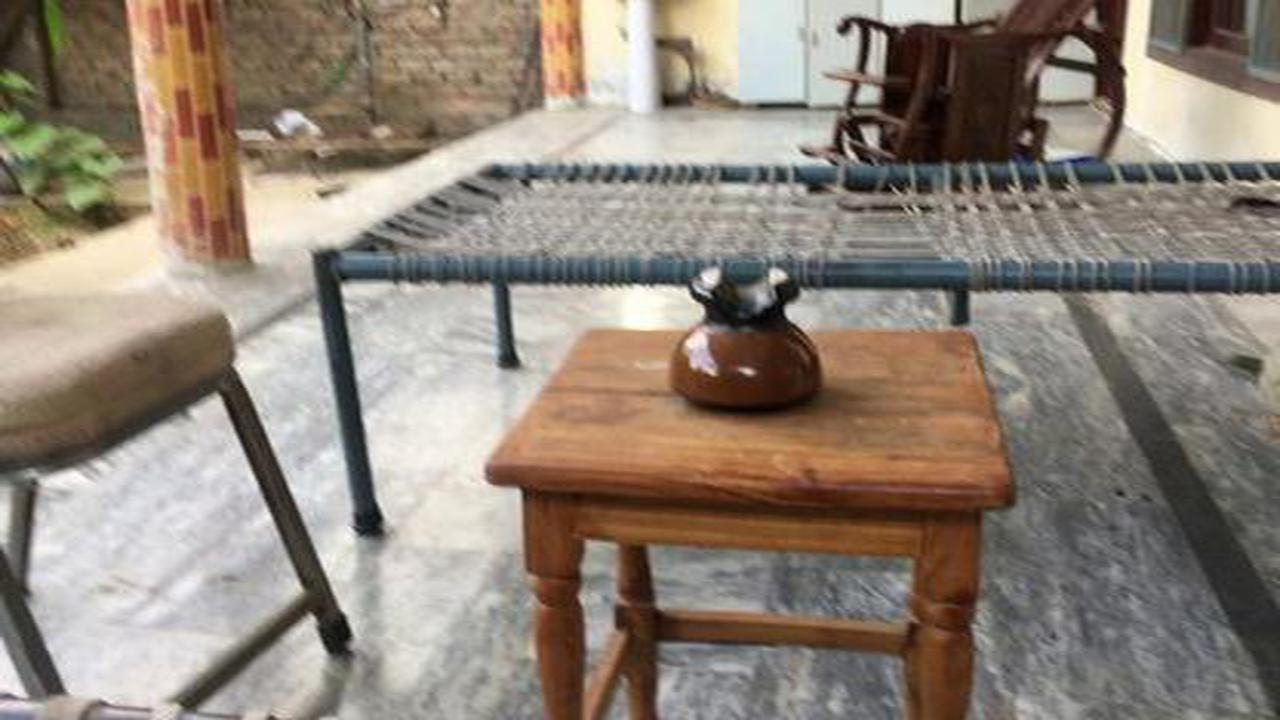insulator_pin: (659, 248, 841, 421)
